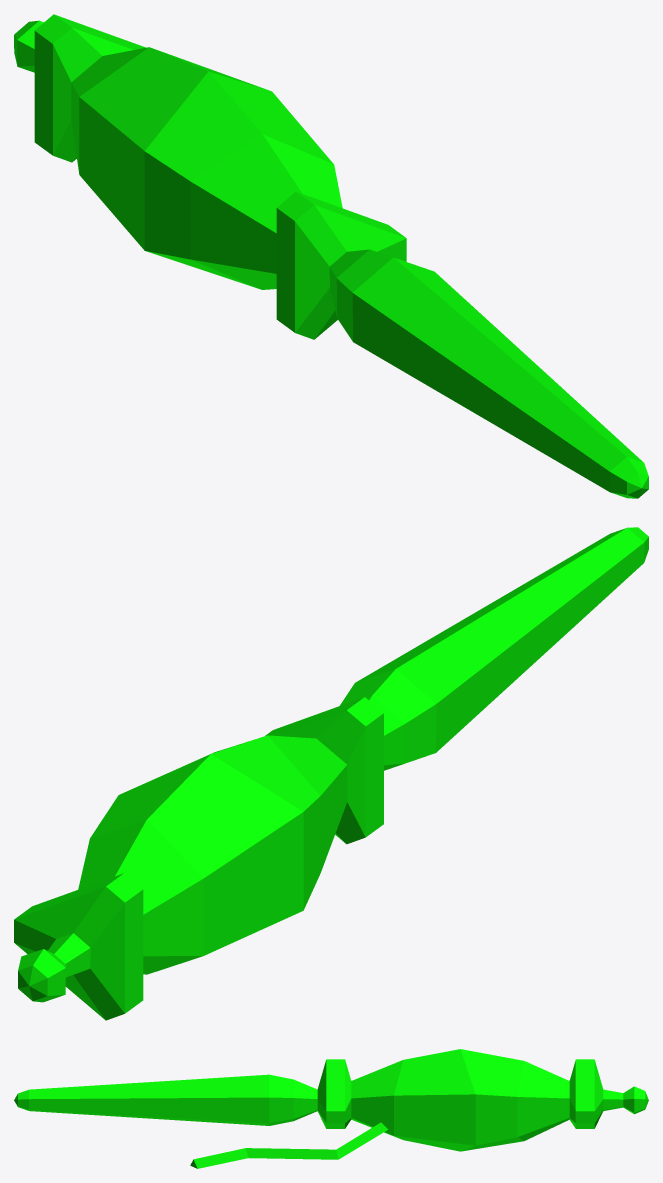
File: SM_Spool_Thread.fbx
The picture shows the model from 3 angles, top to bottom: view 1: azimuth 30°, elevation 25°; view 2: azimuth 150°, elevation 25°; view 3: azimuth 270°, elevation 25°; orthographic projection. The views are drawn at different scales.
Visible parts, largest first — view 1: spool-thread; view 2: spool-thread; view 3: spool-thread.
Part boxes in pixels (box(x1,y1,x2,y2)): spool-thread: box(14, 14, 648, 498); spool-thread: box(14, 527, 648, 1020); spool-thread: box(14, 1049, 648, 1168).
Size of the model in its own units: 0.0548 by 0.0589 by 0.3303.
